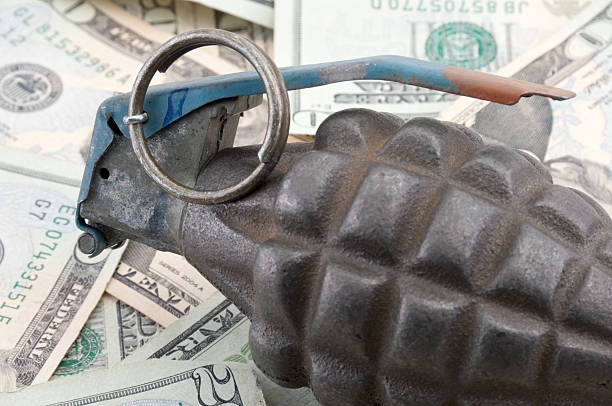e1: (79, 27, 612, 402)
